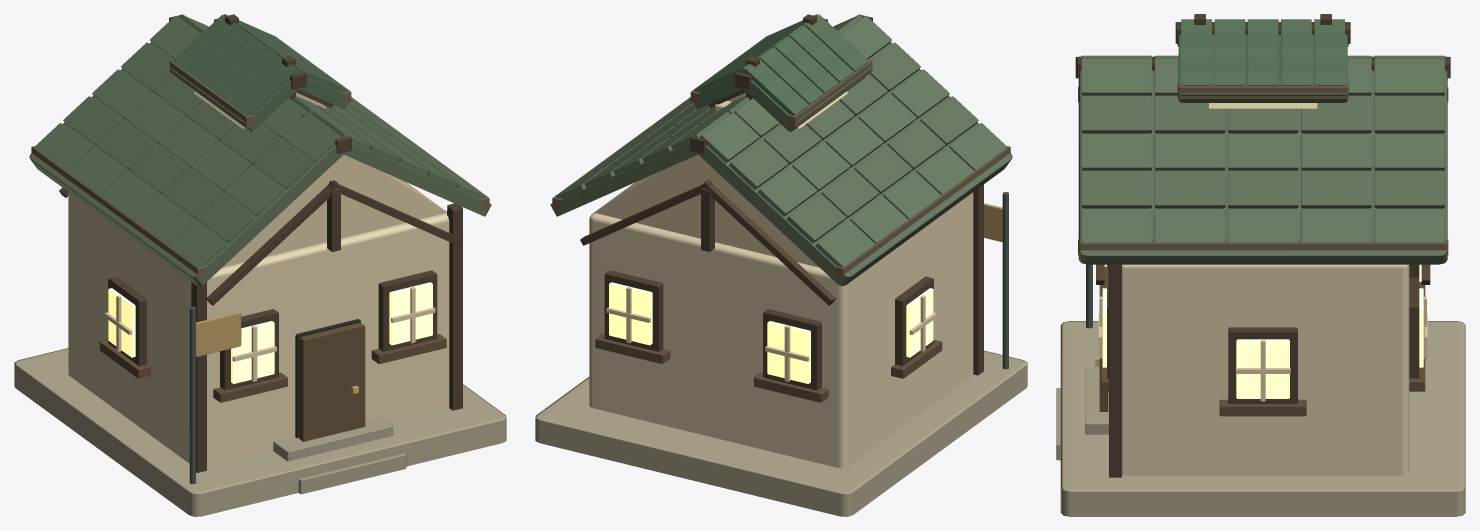
Rendered from hall-1.glb.
3 renders of one model, left to right at view 1: azimuth 30°, elevation 25°; view 2: azimuth 150°, elevation 25°; view 3: azimuth 270°, elevation 25°, orthographic. The views are drawn at different scales.
Visible parts, largest first — view 1: hall-1-0, door-hinge; view 2: hall-1-0; view 3: hall-1-0.
Part boxes in pixels (x1,y1,x2,y2): hall-1-0: (14, 14, 506, 516); door-hinge: (299, 322, 365, 441); hall-1-0: (535, 14, 1027, 516); hall-1-0: (1056, 14, 1465, 516).
Bounding box in the file's own units: 2.8 × 3.17 × 2.83.
